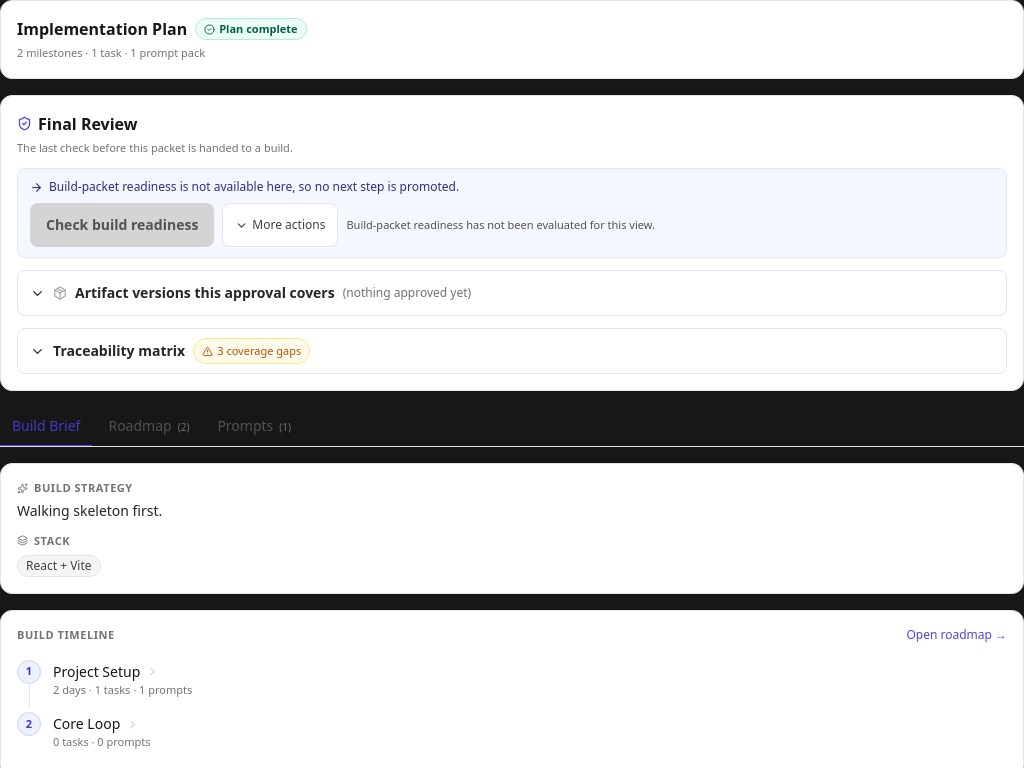
ImplementationPlanRenderer (consolidated view) › marks every pack copied after "Copy all prompt packs" so next-prompt advances
The width and height of the screenshot is (1024, 768).
Click the button "Prompts(1)" at point(254, 427), box [205, 407, 303, 447]
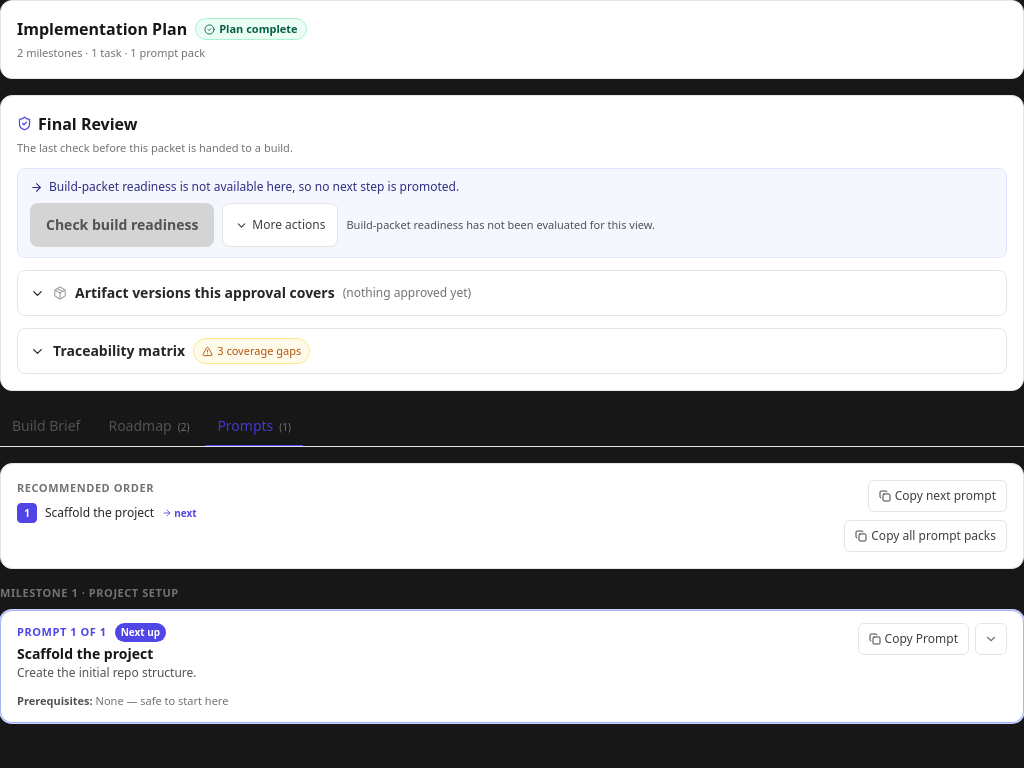
Check: the button "Copy next prompt" is shown, box [868, 480, 1007, 512]
Click the button "Copy all prompt packs" at point(926, 536), box [844, 520, 1007, 552]
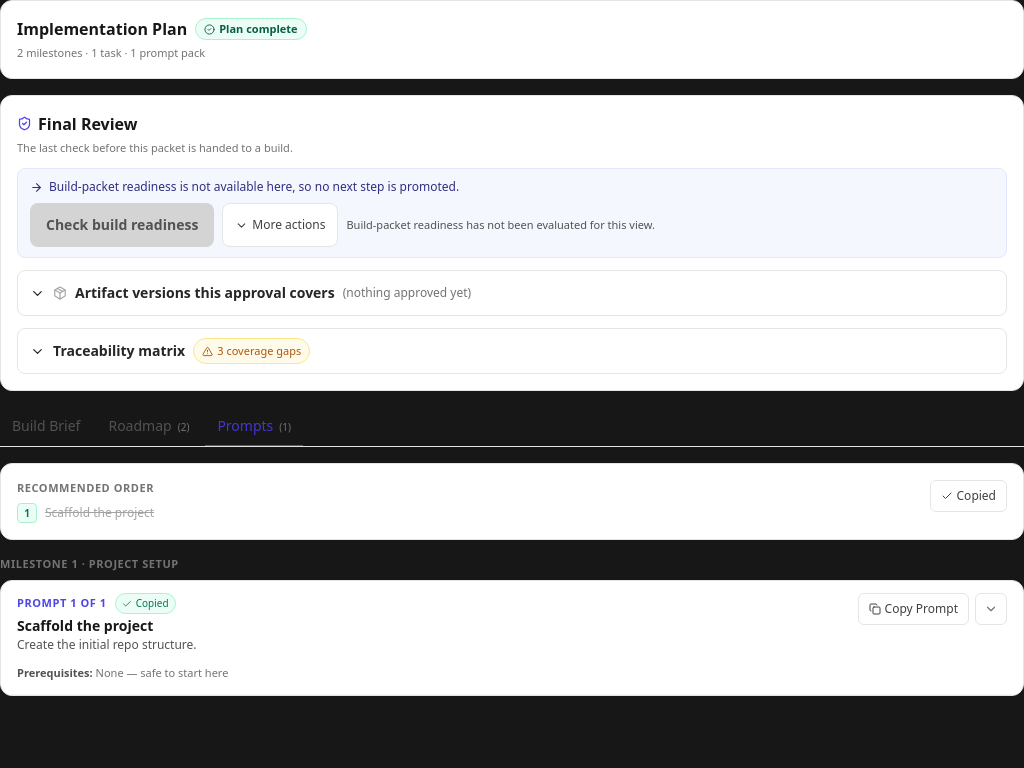
Check: the button "Copy next prompt" is gone
